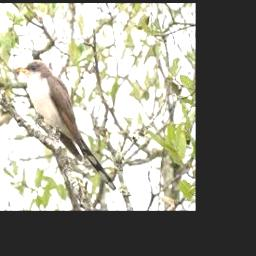Cuckoo: (19, 59, 117, 193)
